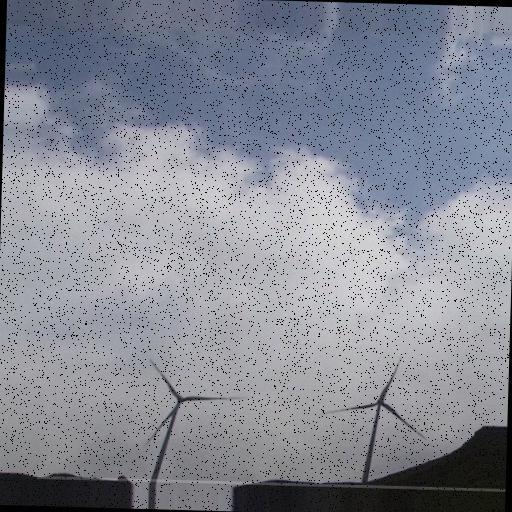wind turbine: (140, 360, 247, 476), (327, 357, 425, 480)
